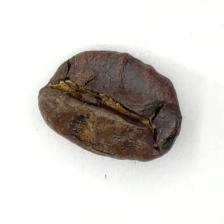NG: (56, 59, 163, 155)
